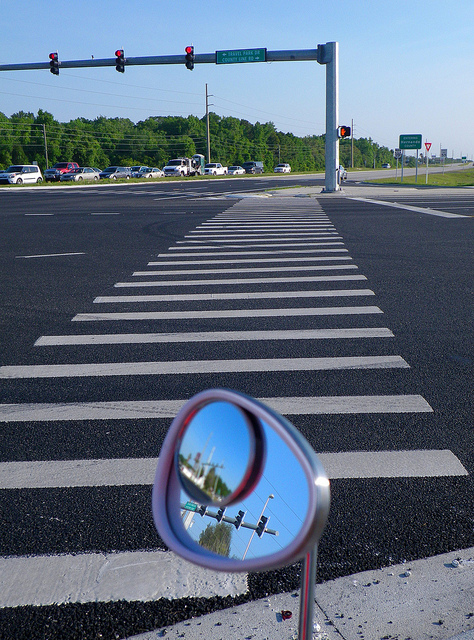Traffic light: (18, 47, 357, 139)
Zebra crossing: (1, 194, 402, 396)
